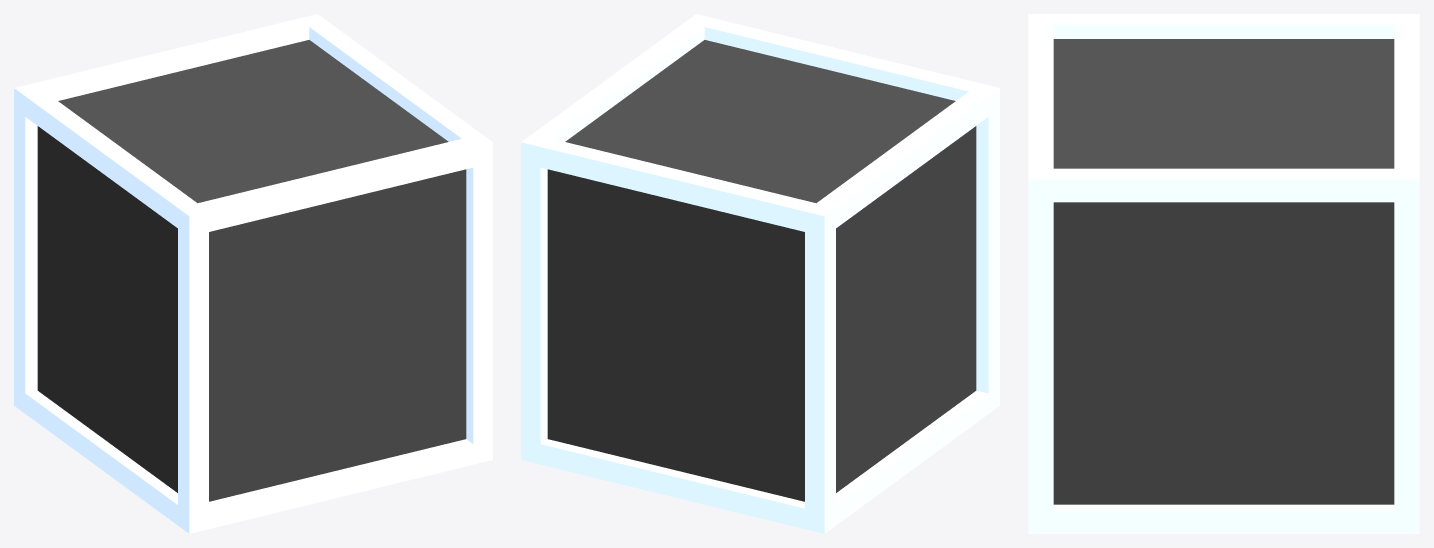
File: 2SubMeshes.FBX
3 renders of one model, left to right at view 1: azimuth 30°, elevation 25°; view 2: azimuth 150°, elevation 25°; view 3: azimuth 270°, elevation 25°, orthographic. The views are drawn at different scales.
Visible parts, largest first — view 1: Box001; view 2: Box001; view 3: Box001.
Boxes of the visible parts, box(x1,y1,x2,y2) form: Box001: box(14, 14, 492, 533); Box001: box(521, 14, 999, 533); Box001: box(1028, 14, 1419, 533).
Size of the model in its own units: 100 by 100 by 100.
